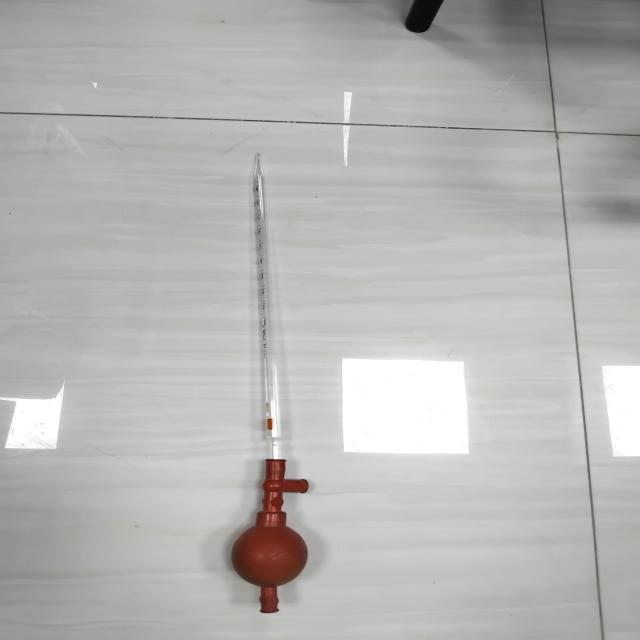Volumetric_Pipet: (203, 137, 345, 625)
